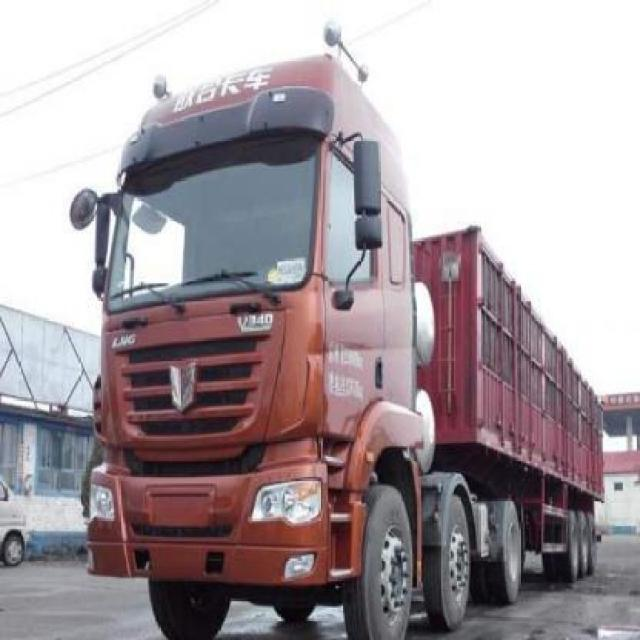Dump Truck: (70, 21, 602, 632)
